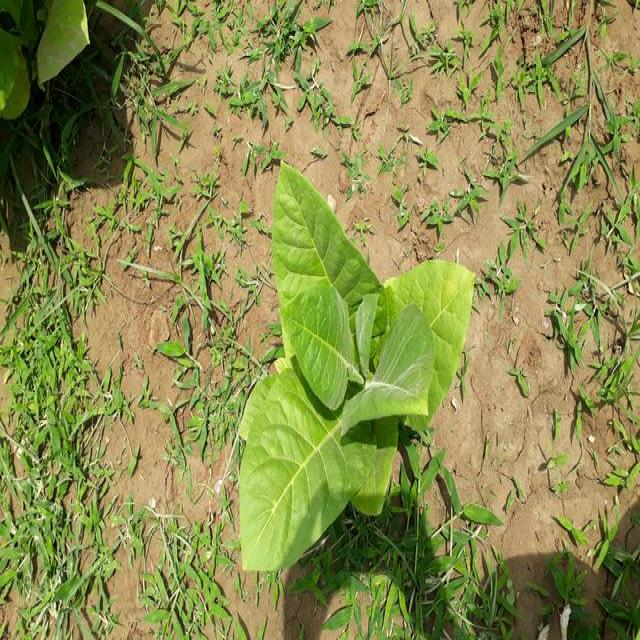crop: (244, 170, 475, 582), (0, 0, 96, 117)
